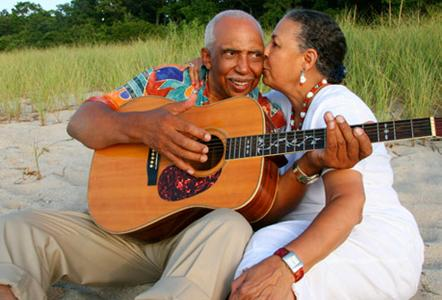person: (4, 10, 373, 300)
